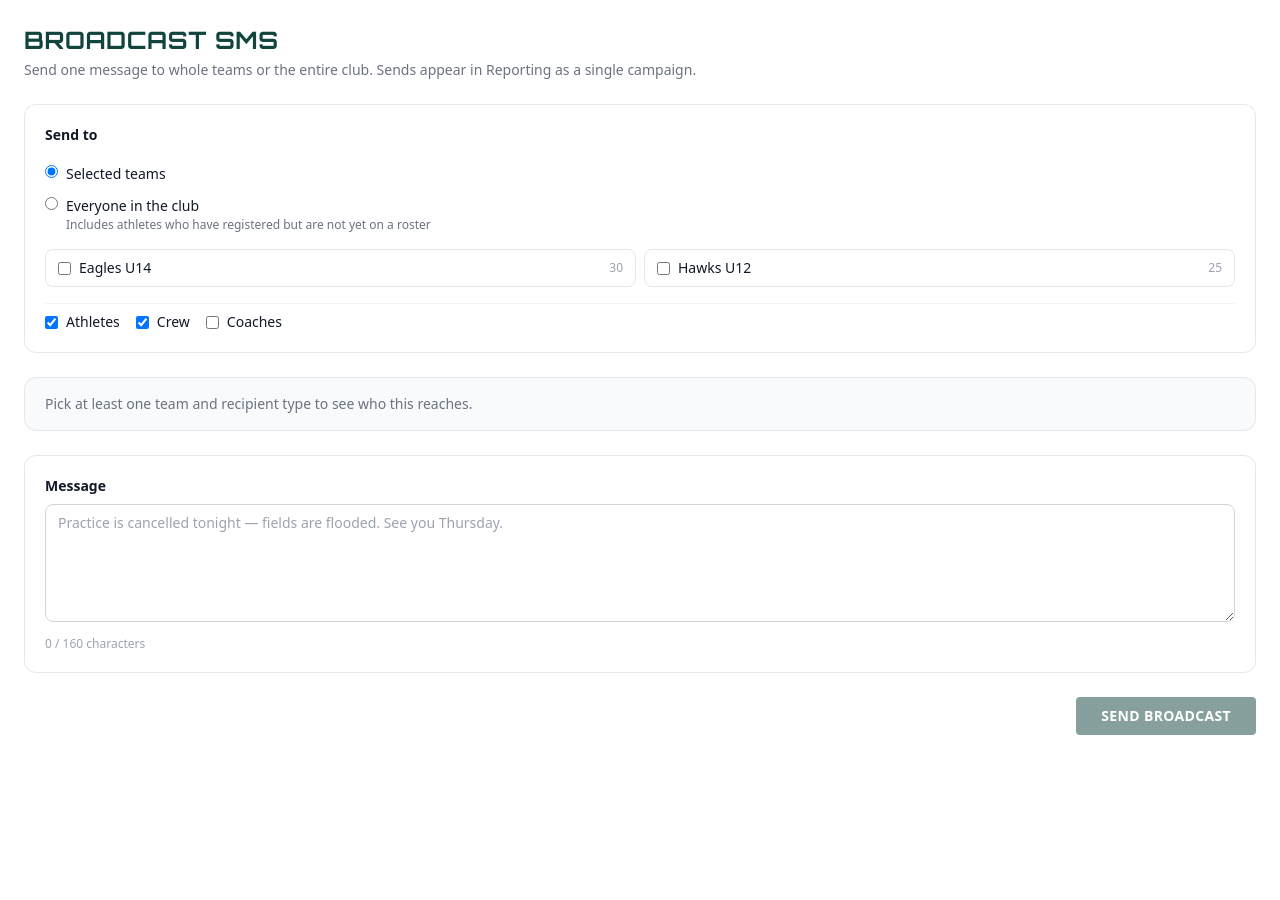
BroadcastCompose › surfaces the opted-out count rather than dropping it silently
Click the checkbox labelled "Eagles U14 30": (64,268) [58, 262, 71, 274]
Wait 400 ms
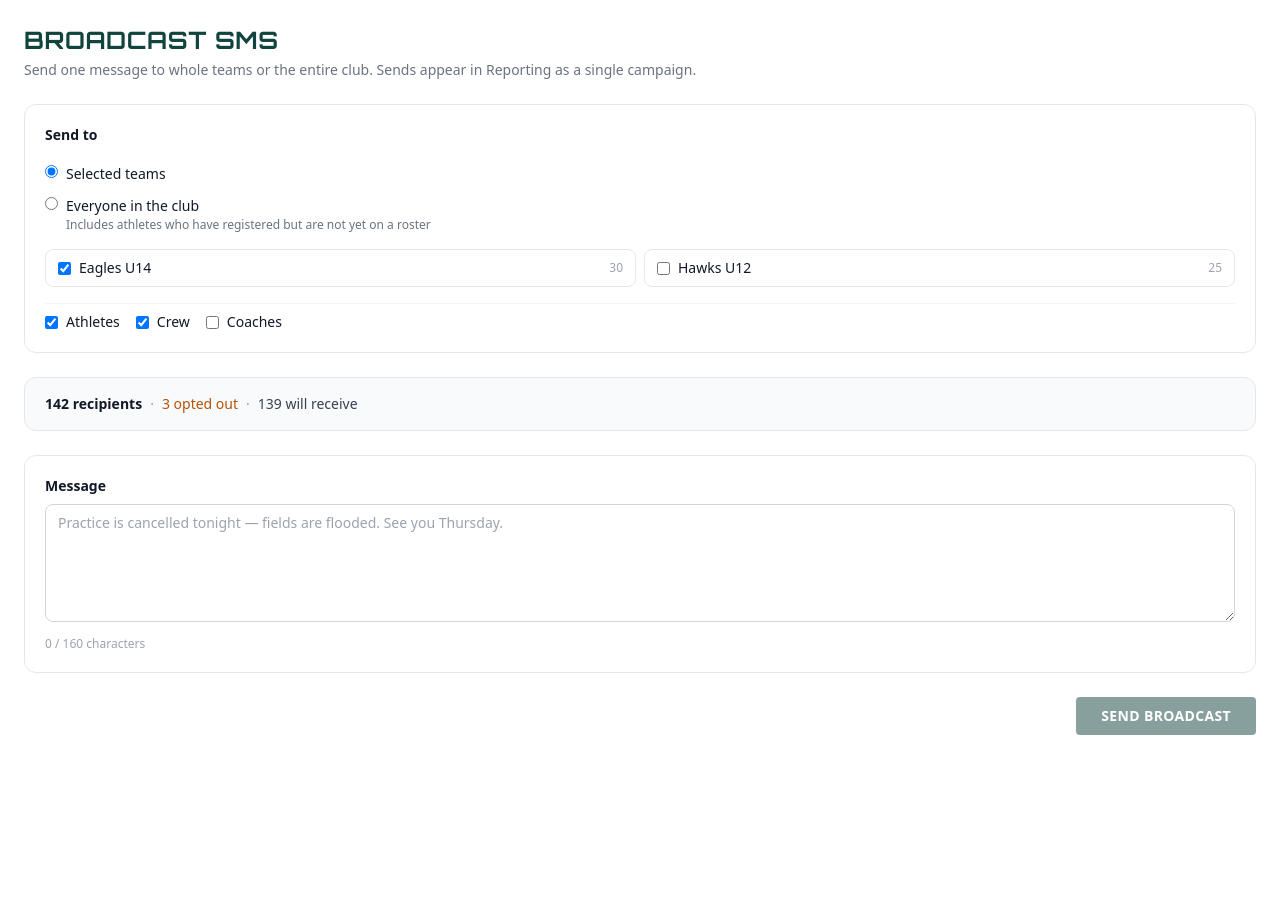
Result: the text "142 recipients" is shown at [45, 394, 142, 414]
Result: the text "3 opted out" is shown at [162, 394, 238, 414]
Result: the text "139 will receive" is shown at [258, 394, 358, 414]
